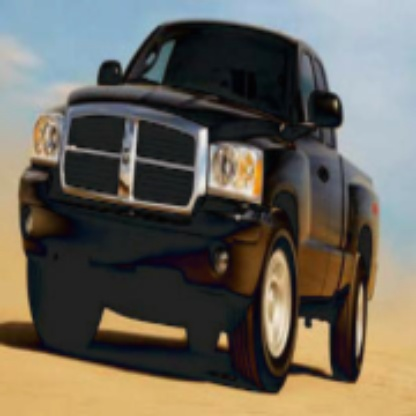Vehicle: (19, 18, 387, 406)
